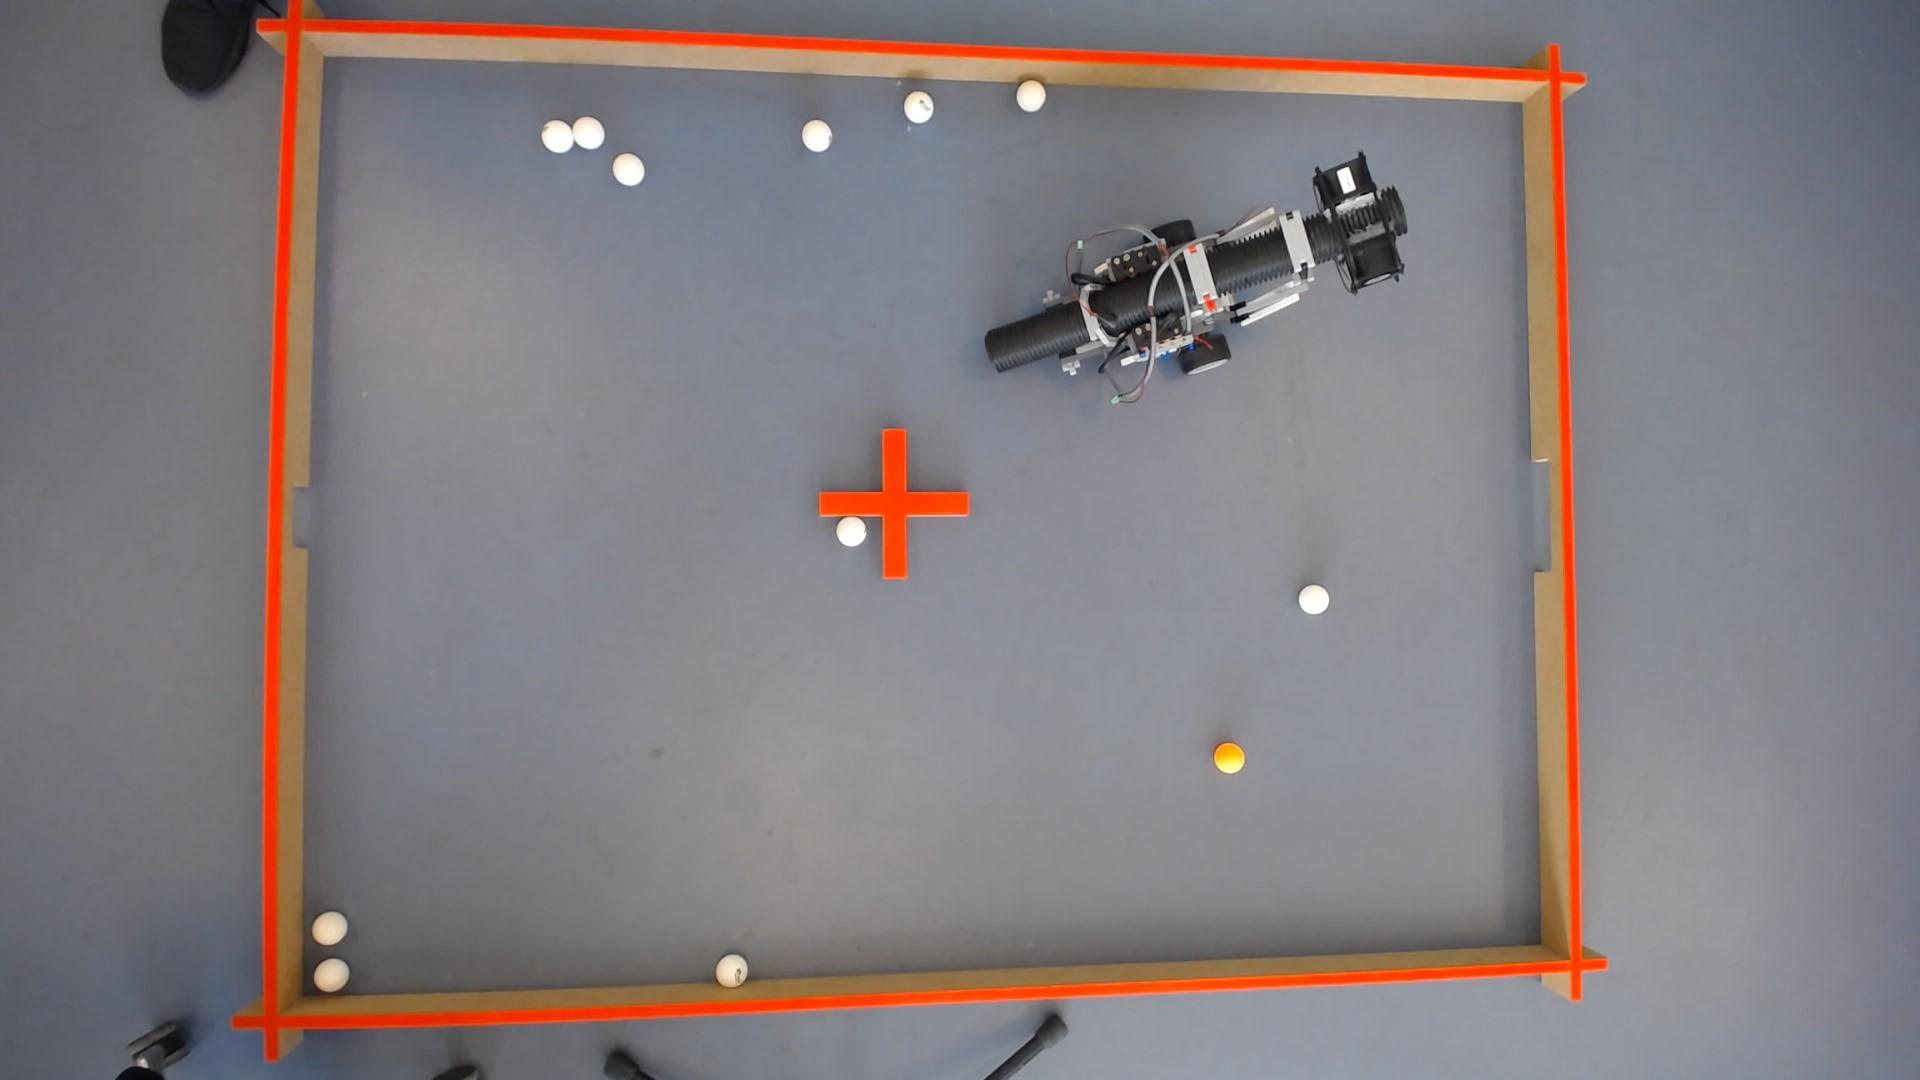orange: (1215, 742, 1246, 774)
robot: (986, 150, 1408, 385)
white: (309, 911, 347, 947), (311, 957, 348, 993), (713, 953, 749, 989), (541, 117, 572, 150), (572, 113, 604, 146), (903, 88, 935, 121), (612, 152, 644, 183), (800, 117, 832, 149), (1017, 76, 1047, 109), (1300, 584, 1332, 615), (836, 516, 866, 546)
